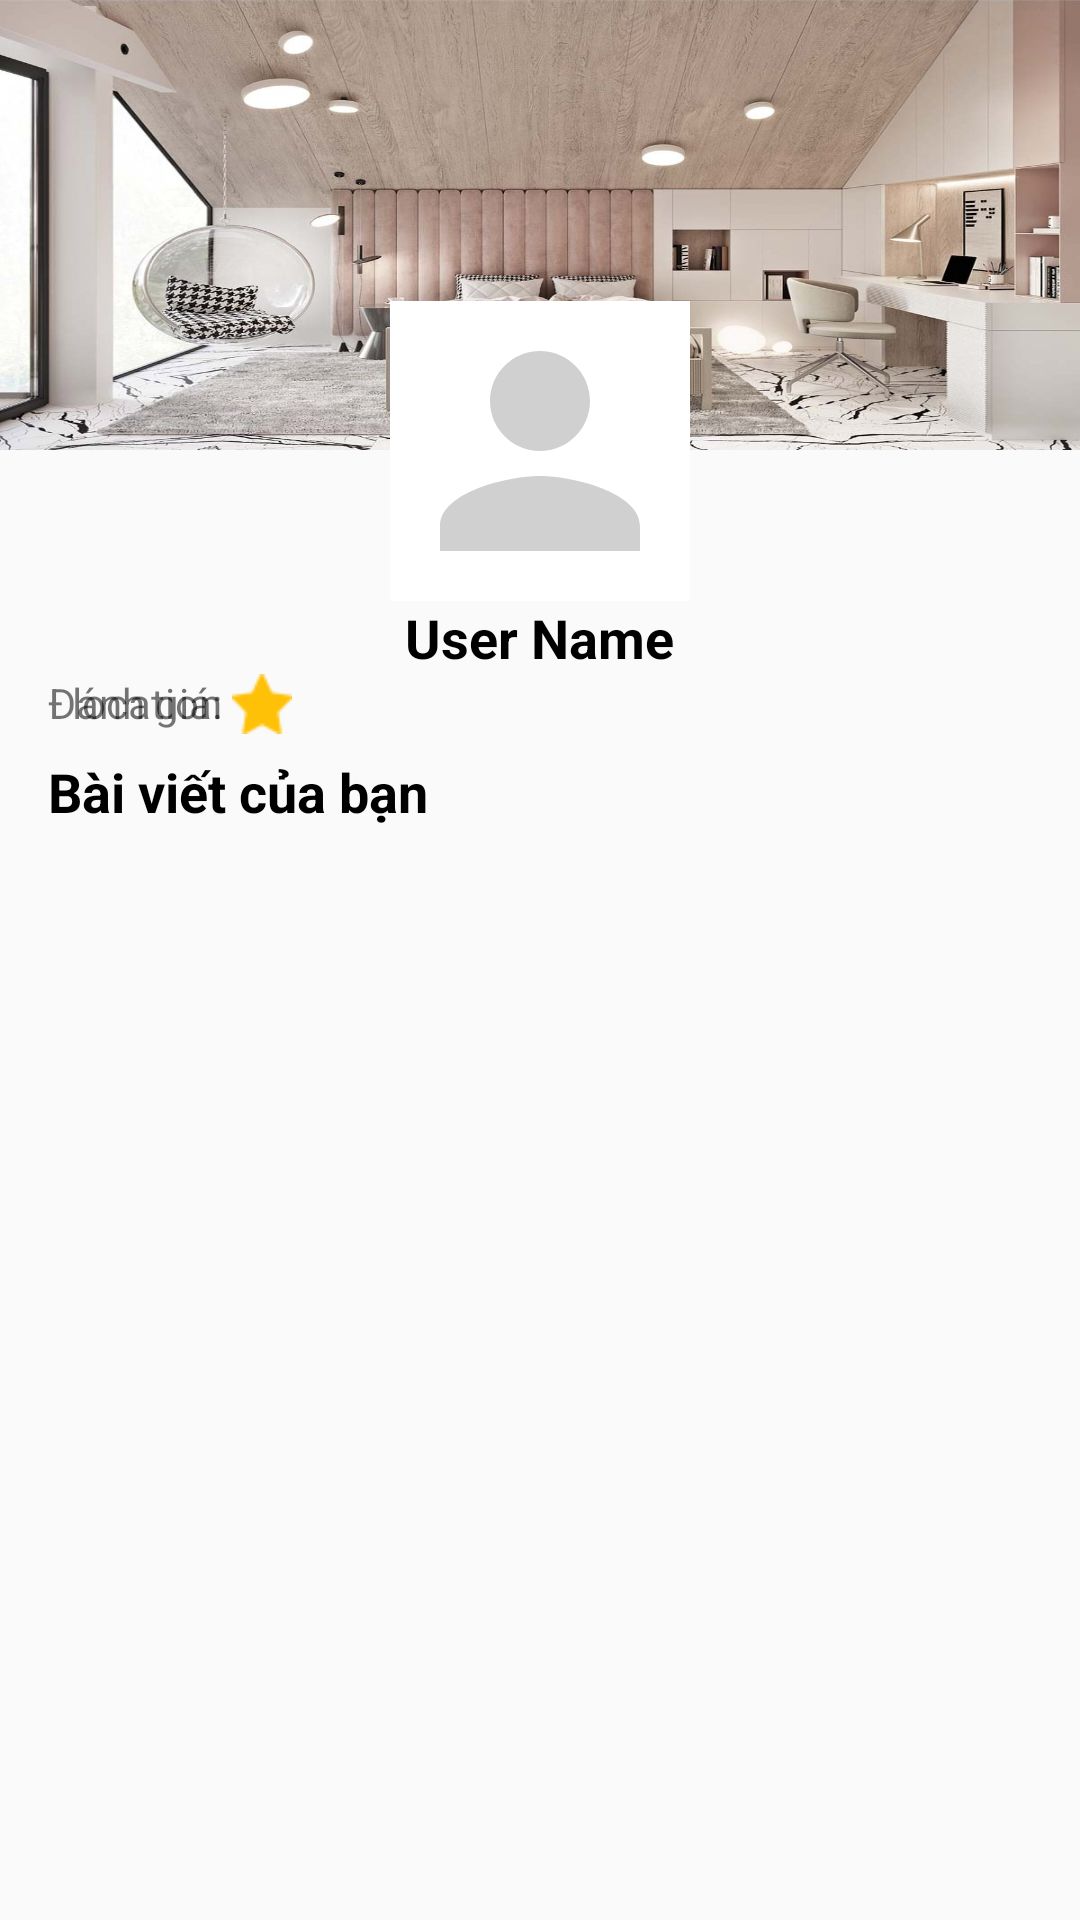

Named icons in this screenshot (1080 × 1920) and their bounding boxes, region(x1, y1, x2, y2):
rating full: region(232, 674, 292, 734)
